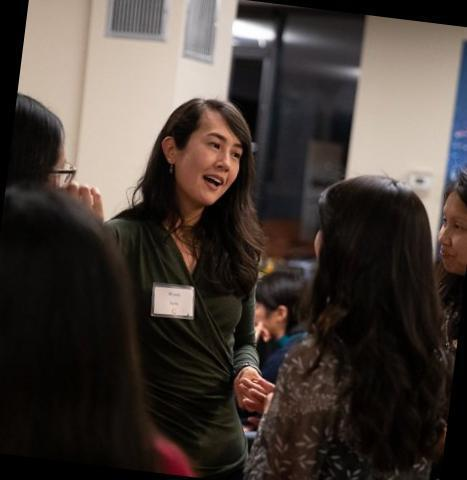Sober: (181, 115, 240, 199)
